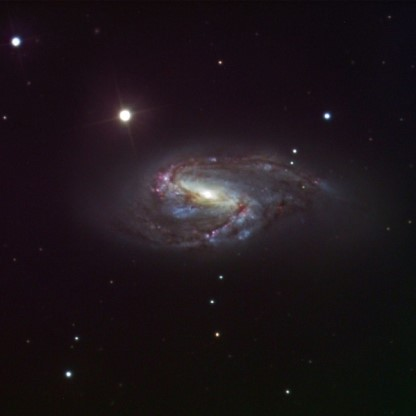Messier 66: (99, 105, 348, 270)
